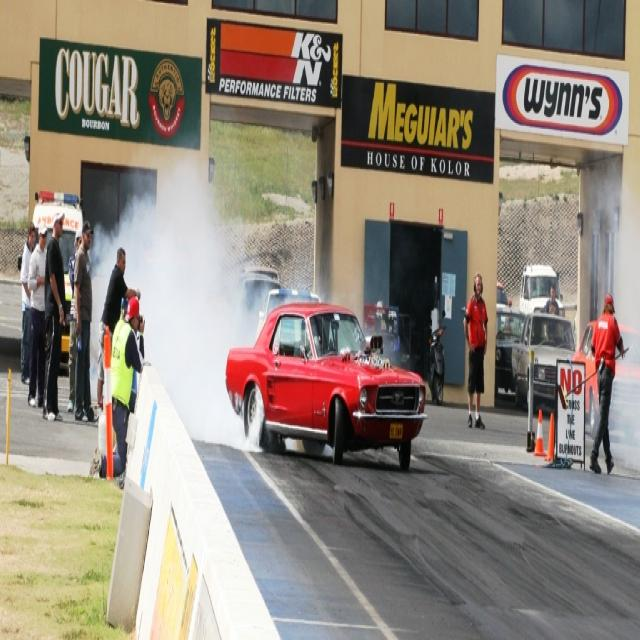car: (222, 298, 427, 456), (494, 300, 528, 402)
